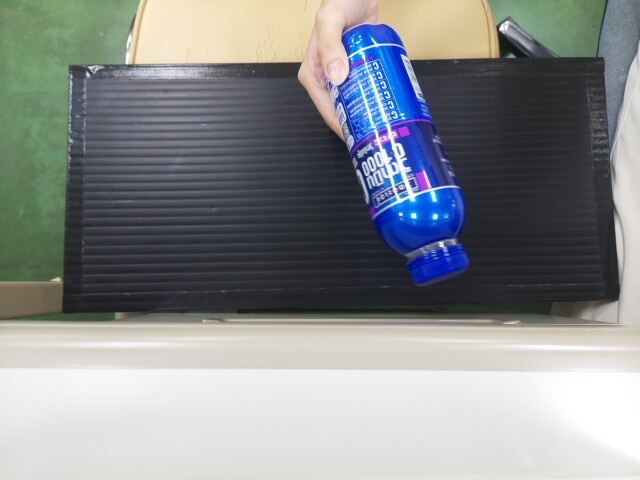plastic_bottle: (333, 38, 471, 279)
